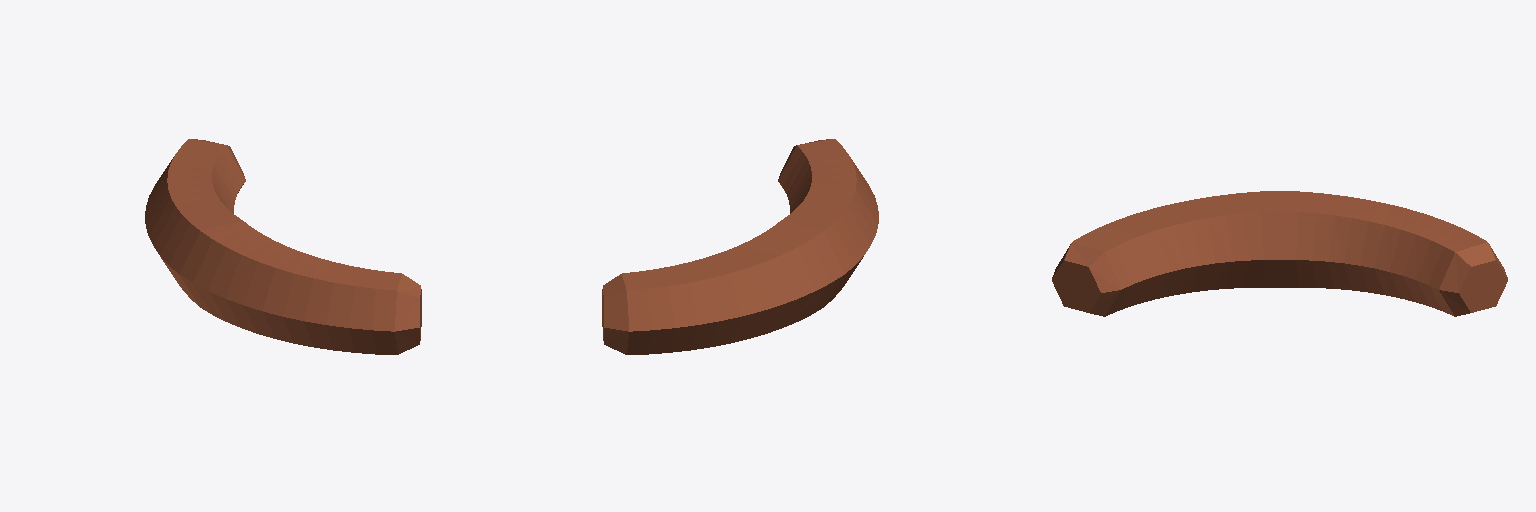
The model's file is meatSausage.obj.
The picture shows the model from 3 angles: view 1: azimuth 30°, elevation 25°; view 2: azimuth 150°, elevation 25°; view 3: azimuth 270°, elevation 25°; orthographic projection.
Visible parts, largest first — view 1: meatSausage; view 2: meatSausage; view 3: meatSausage.
Boxes of the visible parts, x1,y1,x2,y2 form: meatSausage: [145, 139, 421, 354]; meatSausage: [602, 139, 878, 354]; meatSausage: [1052, 191, 1507, 316].
Bounding box in the file's own units: 0.1515 × 0.0727 × 0.3916.